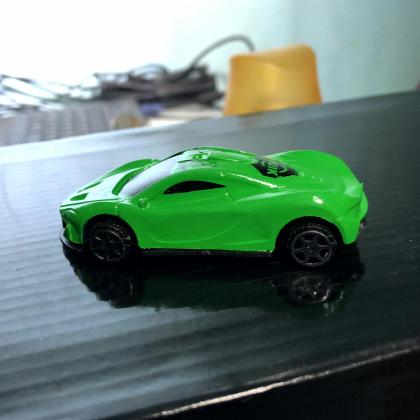Car: (58, 147, 369, 269)
